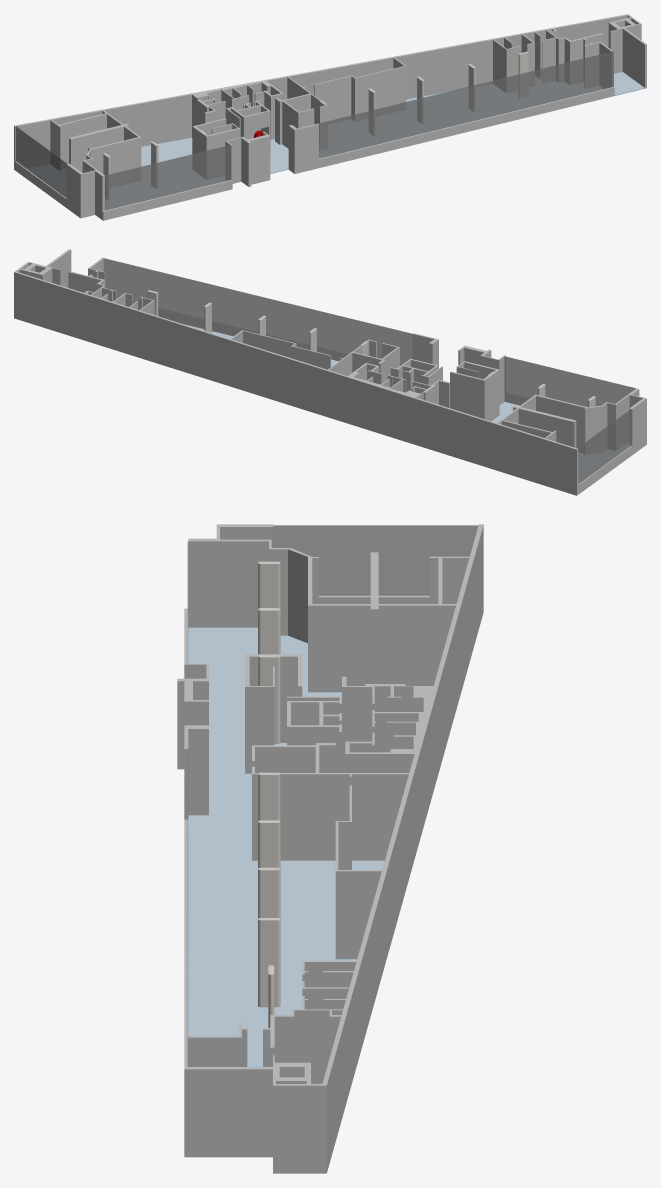
The model's file is Floor 0.fbx.
3 views of the same model, one above another, from view 1: azimuth 30°, elevation 25°; view 2: azimuth 150°, elevation 25°; view 3: azimuth 270°, elevation 25° (orthographic). The views are drawn at different scales.
Visible parts, largest first — view 1: Back_Wall, Floor, Window_3, Window_2, Bar_Front_Wall, Null, Window_1, Bar_Front_Wall_2, Garage_Entrance_Floor, Col7, Col6, Col4_2 (+2 smaller); view 2: Back_Wall, Window_3, Window_2, Null, Window_1, Bar_Front_Wall, Garage_Entrance_Floor, Floor; view 3: Back_Wall, Floor, Window_1, Null, Bar_Front_Wall, Bar_Front_Wall_2, Col6, Col5, Col4, Col4_2, Col3, Col1 (+1 smaller).
Part boxes in pixels (bbox=[...]): Back_Wall: bbox=[14, 14, 646, 220]; Floor: bbox=[105, 72, 644, 209]; Window_3: bbox=[318, 51, 613, 158]; Window_2: bbox=[105, 145, 230, 210]; Bar_Front_Wall: bbox=[288, 87, 614, 173]; Null: bbox=[192, 100, 270, 179]; Window_1: bbox=[16, 126, 67, 197]; Bar_Front_Wall_2: bbox=[584, 41, 613, 88]; Garage_Entrance_Floor: bbox=[29, 164, 66, 195]; Col7: bbox=[518, 51, 528, 98]; Col6: bbox=[468, 64, 475, 111]; Col4_2: bbox=[368, 88, 375, 135]; Back_Wall: bbox=[14, 249, 646, 495]; Window_3: bbox=[102, 257, 412, 365]; Window_2: bbox=[504, 356, 636, 407]; Null: bbox=[390, 358, 499, 421]; Window_1: bbox=[577, 409, 631, 483]; Bar_Front_Wall: bbox=[133, 302, 438, 368]; Garage_Entrance_Floor: bbox=[578, 442, 628, 481]; Floor: bbox=[174, 321, 519, 422]; Back_Wall: bbox=[177, 524, 483, 1173]; Floor: bbox=[188, 627, 384, 1066]; Window_1: bbox=[273, 525, 478, 595]; Null: bbox=[245, 654, 341, 773]; Bar_Front_Wall: bbox=[184, 725, 208, 1066]; Bar_Front_Wall_2: bbox=[188, 1022, 247, 1066]; Col6: bbox=[258, 918, 280, 1007]; Col5: bbox=[258, 867, 280, 918]; Col4: bbox=[258, 772, 280, 820]; Col4_2: bbox=[258, 820, 280, 868]; Col3: bbox=[258, 655, 280, 743]; Col1: bbox=[258, 561, 280, 608].
Size of the model in its own units: 41.04 by 3.02 by 9.47.
